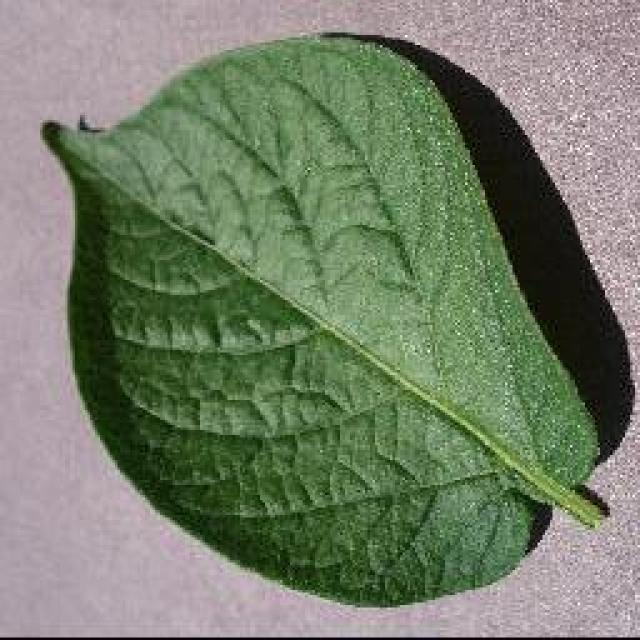Potato___healthy: (42, 30, 602, 609)
